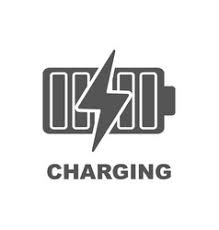charging sign: (30, 40, 192, 163)
